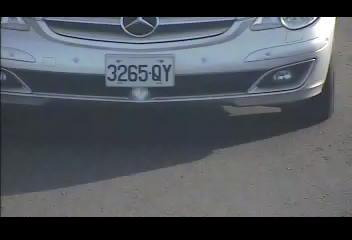plate: (103, 54, 176, 88)
